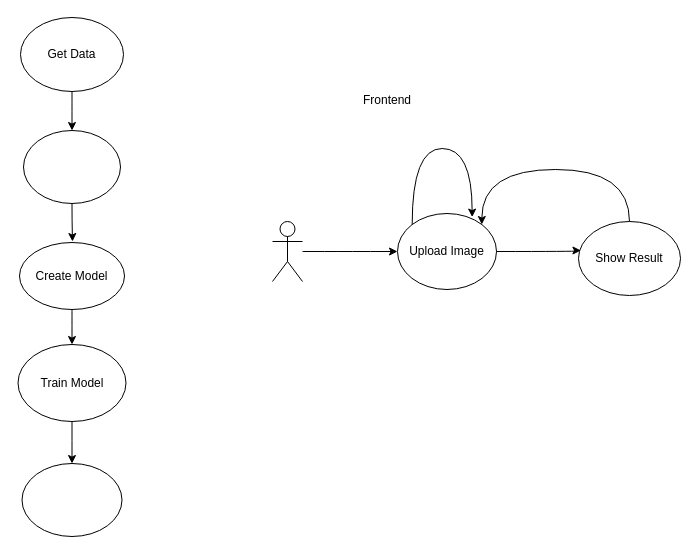
This 698x554 diagram has some shape labels left out. The shapes that lost their labels are listed below. From the top down, each one's centre as x and y in pixels, then its label:
the point at 71,167: Data Preprocessing
the point at 287,251: Actor
the point at 71,499: Save Model
